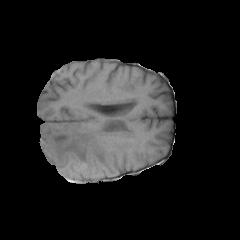glioma: (40, 123, 131, 178)
